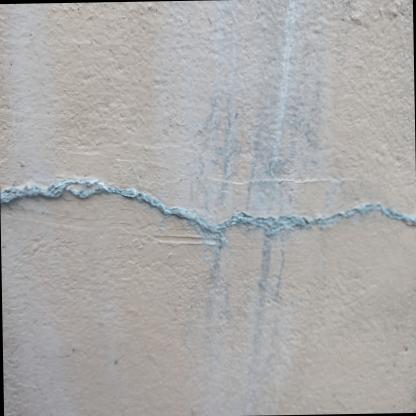crack: (0, 174, 416, 249)
